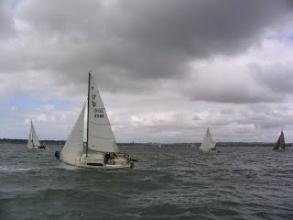fanchuan: (51, 69, 137, 172), (24, 116, 47, 155), (195, 127, 223, 155), (267, 129, 291, 153)
